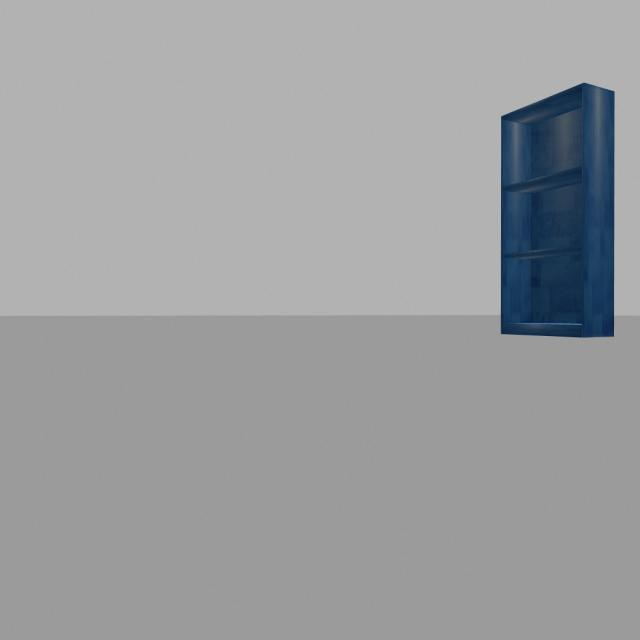shelf: (492, 69, 626, 356)
